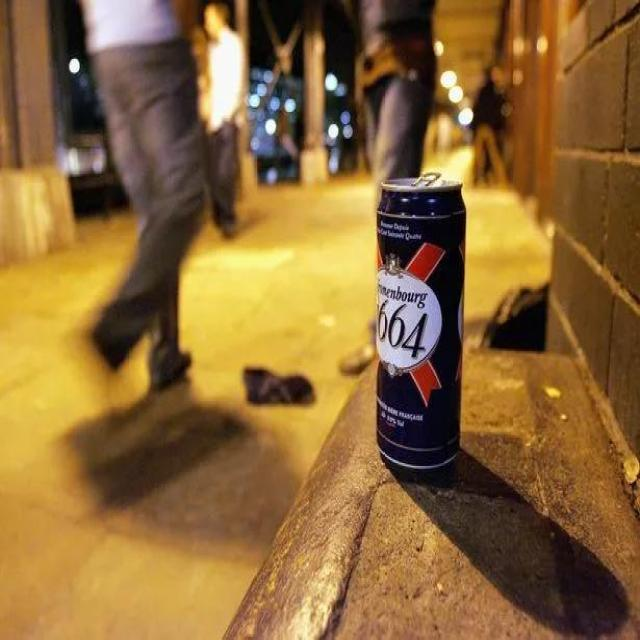can: (376, 173, 466, 472)
pop tab: (411, 172, 442, 186)
